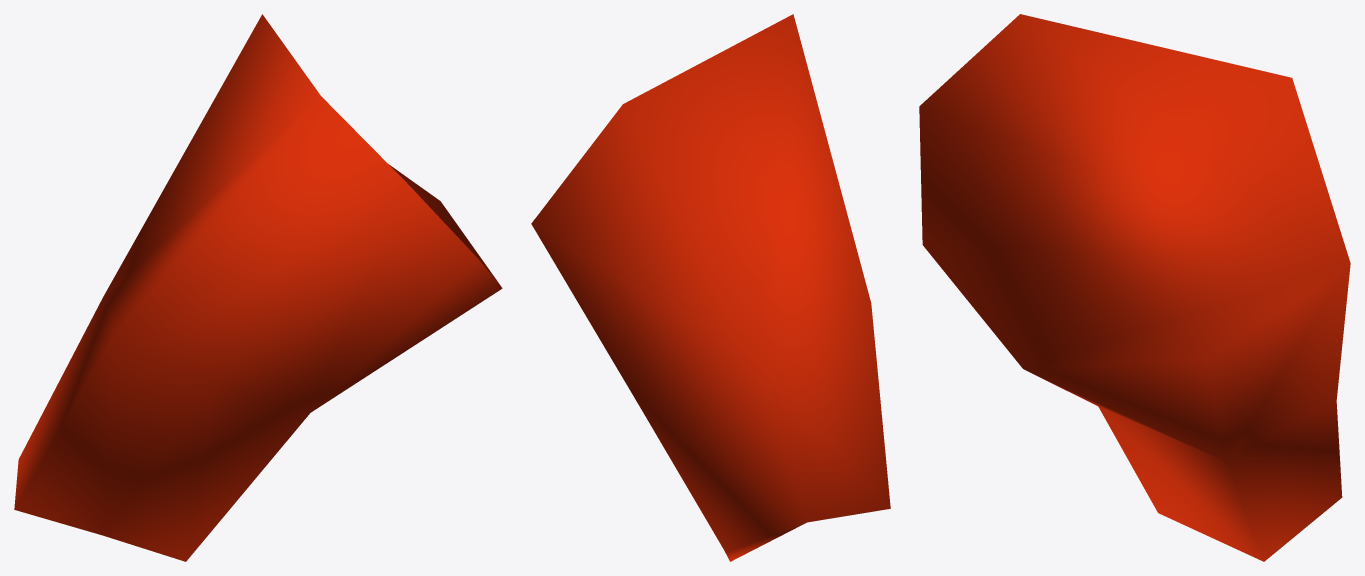
File: BrazoDerecho.obj
3 renders of one model, left to right at view 1: azimuth 30°, elevation 25°; view 2: azimuth 150°, elevation 25°; view 3: azimuth 270°, elevation 25°, orthographic. The views are drawn at different scales.
Size of the model in its own units: 5.99 by 7.27 by 4.99.
1 material, 1 textured.
